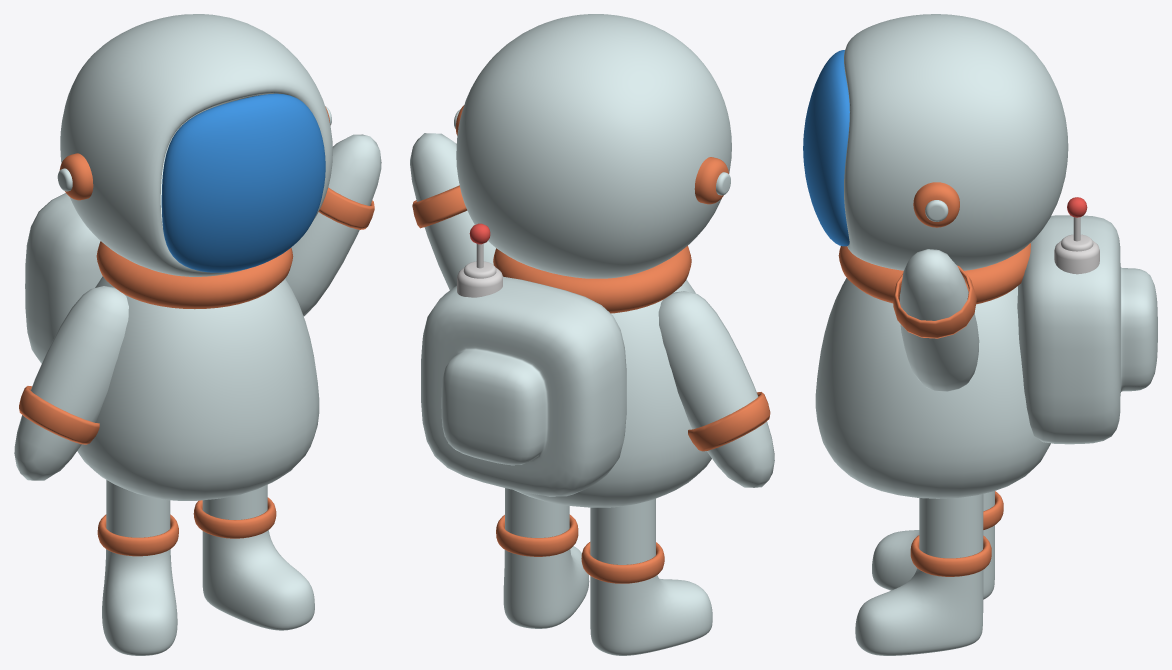
The model's file is botnout.glb.
3 renders of one model, left to right at view 1: azimuth 30°, elevation 25°; view 2: azimuth 150°, elevation 25°; view 3: azimuth 270°, elevation 25°, orthographic.
Visible parts, largest first — view 1: Object_6, Object_2, Object_5, Object_7; view 2: Object_6, Object_5, Object_7, Object_3; view 3: Object_6, Object_5, Object_2, Object_7, Object_3.
Boxes of the visible parts, <box> form: Object_6: <box>14,14,381,630</box>; Object_2: <box>161,93,325,272</box>; Object_5: <box>19,106,374,556</box>; Object_7: <box>57,106,331,655</box>; Object_6: <box>410,14,774,628</box>; Object_5: <box>412,105,770,583</box>; Object_7: <box>454,109,730,655</box>; Object_3: <box>457,243,502,297</box>; Object_6: <box>815,14,1157,655</box>; Object_5: <box>838,182,1030,576</box>; Object_2: <box>803,50,849,246</box>; Object_7: <box>872,200,994,599</box>; Object_3: <box>1054,217,1099,274</box>.
Size of the model in its own units: 1.58 by 2.5 by 1.37.
